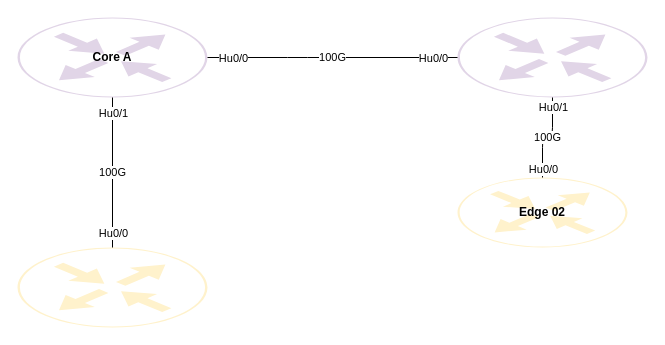
Some shapes in this 665 by 345 pixel diagram are drawn without their labels. Each missing label, with the centre of its shape:
Core B: the point at 552,57
Edge 01: the point at 112,287
